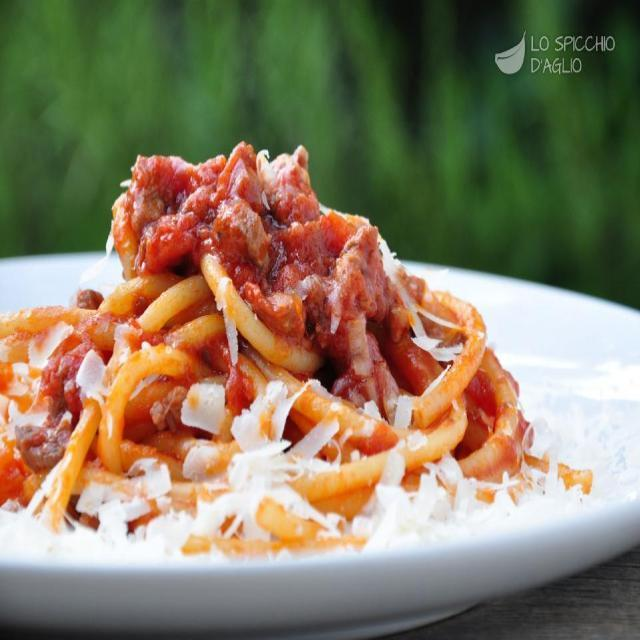Pasta al ragu: (24, 118, 548, 517)
